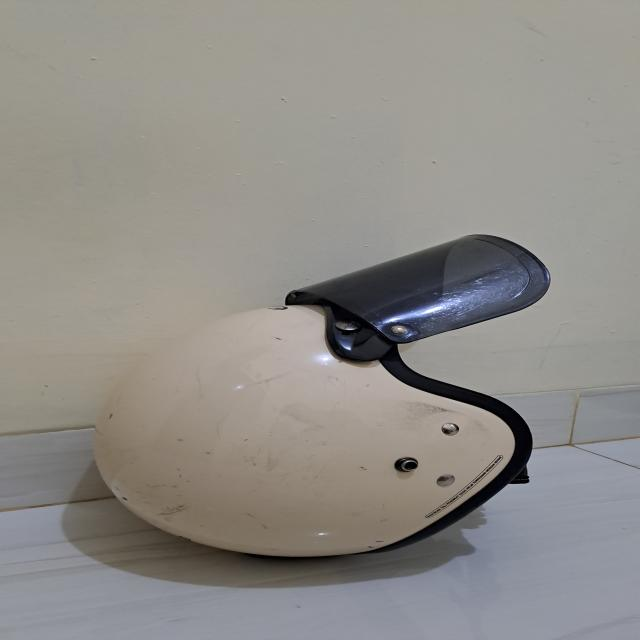Helm: (64, 234, 556, 564)
